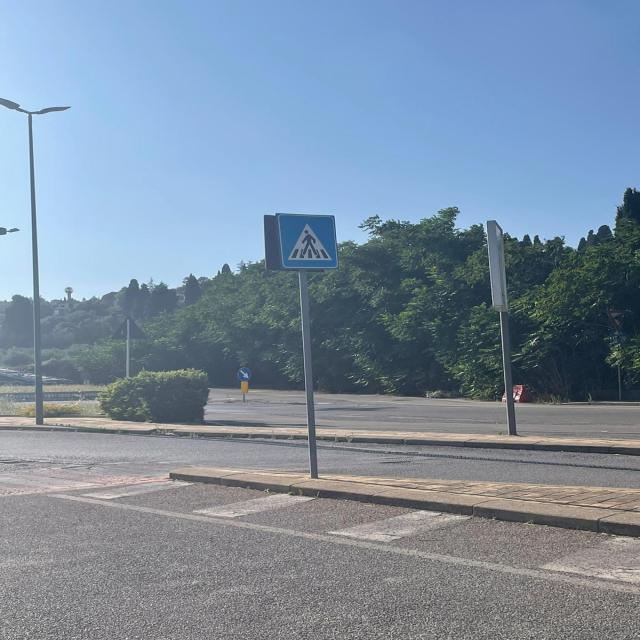info_crosswalk: (276, 212, 340, 270)
